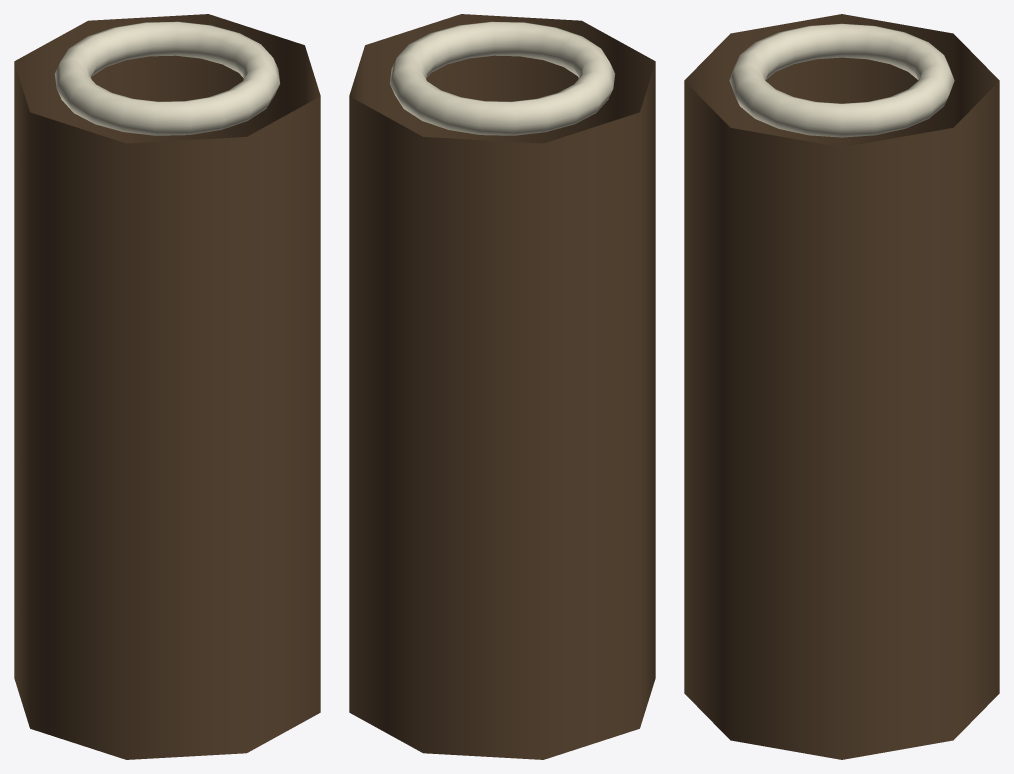
The model's file is Wood.fbx.
3 renders of one model, left to right at view 1: azimuth 30°, elevation 25°; view 2: azimuth 150°, elevation 25°; view 3: azimuth 270°, elevation 25°, orthographic.
Visible parts, largest first — view 1: Split branch_export, Endgrain_export; view 2: Split branch_export, Endgrain_export; view 3: Split branch_export, Endgrain_export.
Boxes of the visible parts, box(x1,y1,x2,y2) form: Split branch_export: box(14, 14, 320, 759); Endgrain_export: box(55, 21, 280, 135); Split branch_export: box(349, 14, 655, 759); Endgrain_export: box(389, 21, 614, 135); Split branch_export: box(684, 14, 999, 759); Endgrain_export: box(729, 23, 954, 137).
Size of the model in its own units: 70 by 154 by 70.
